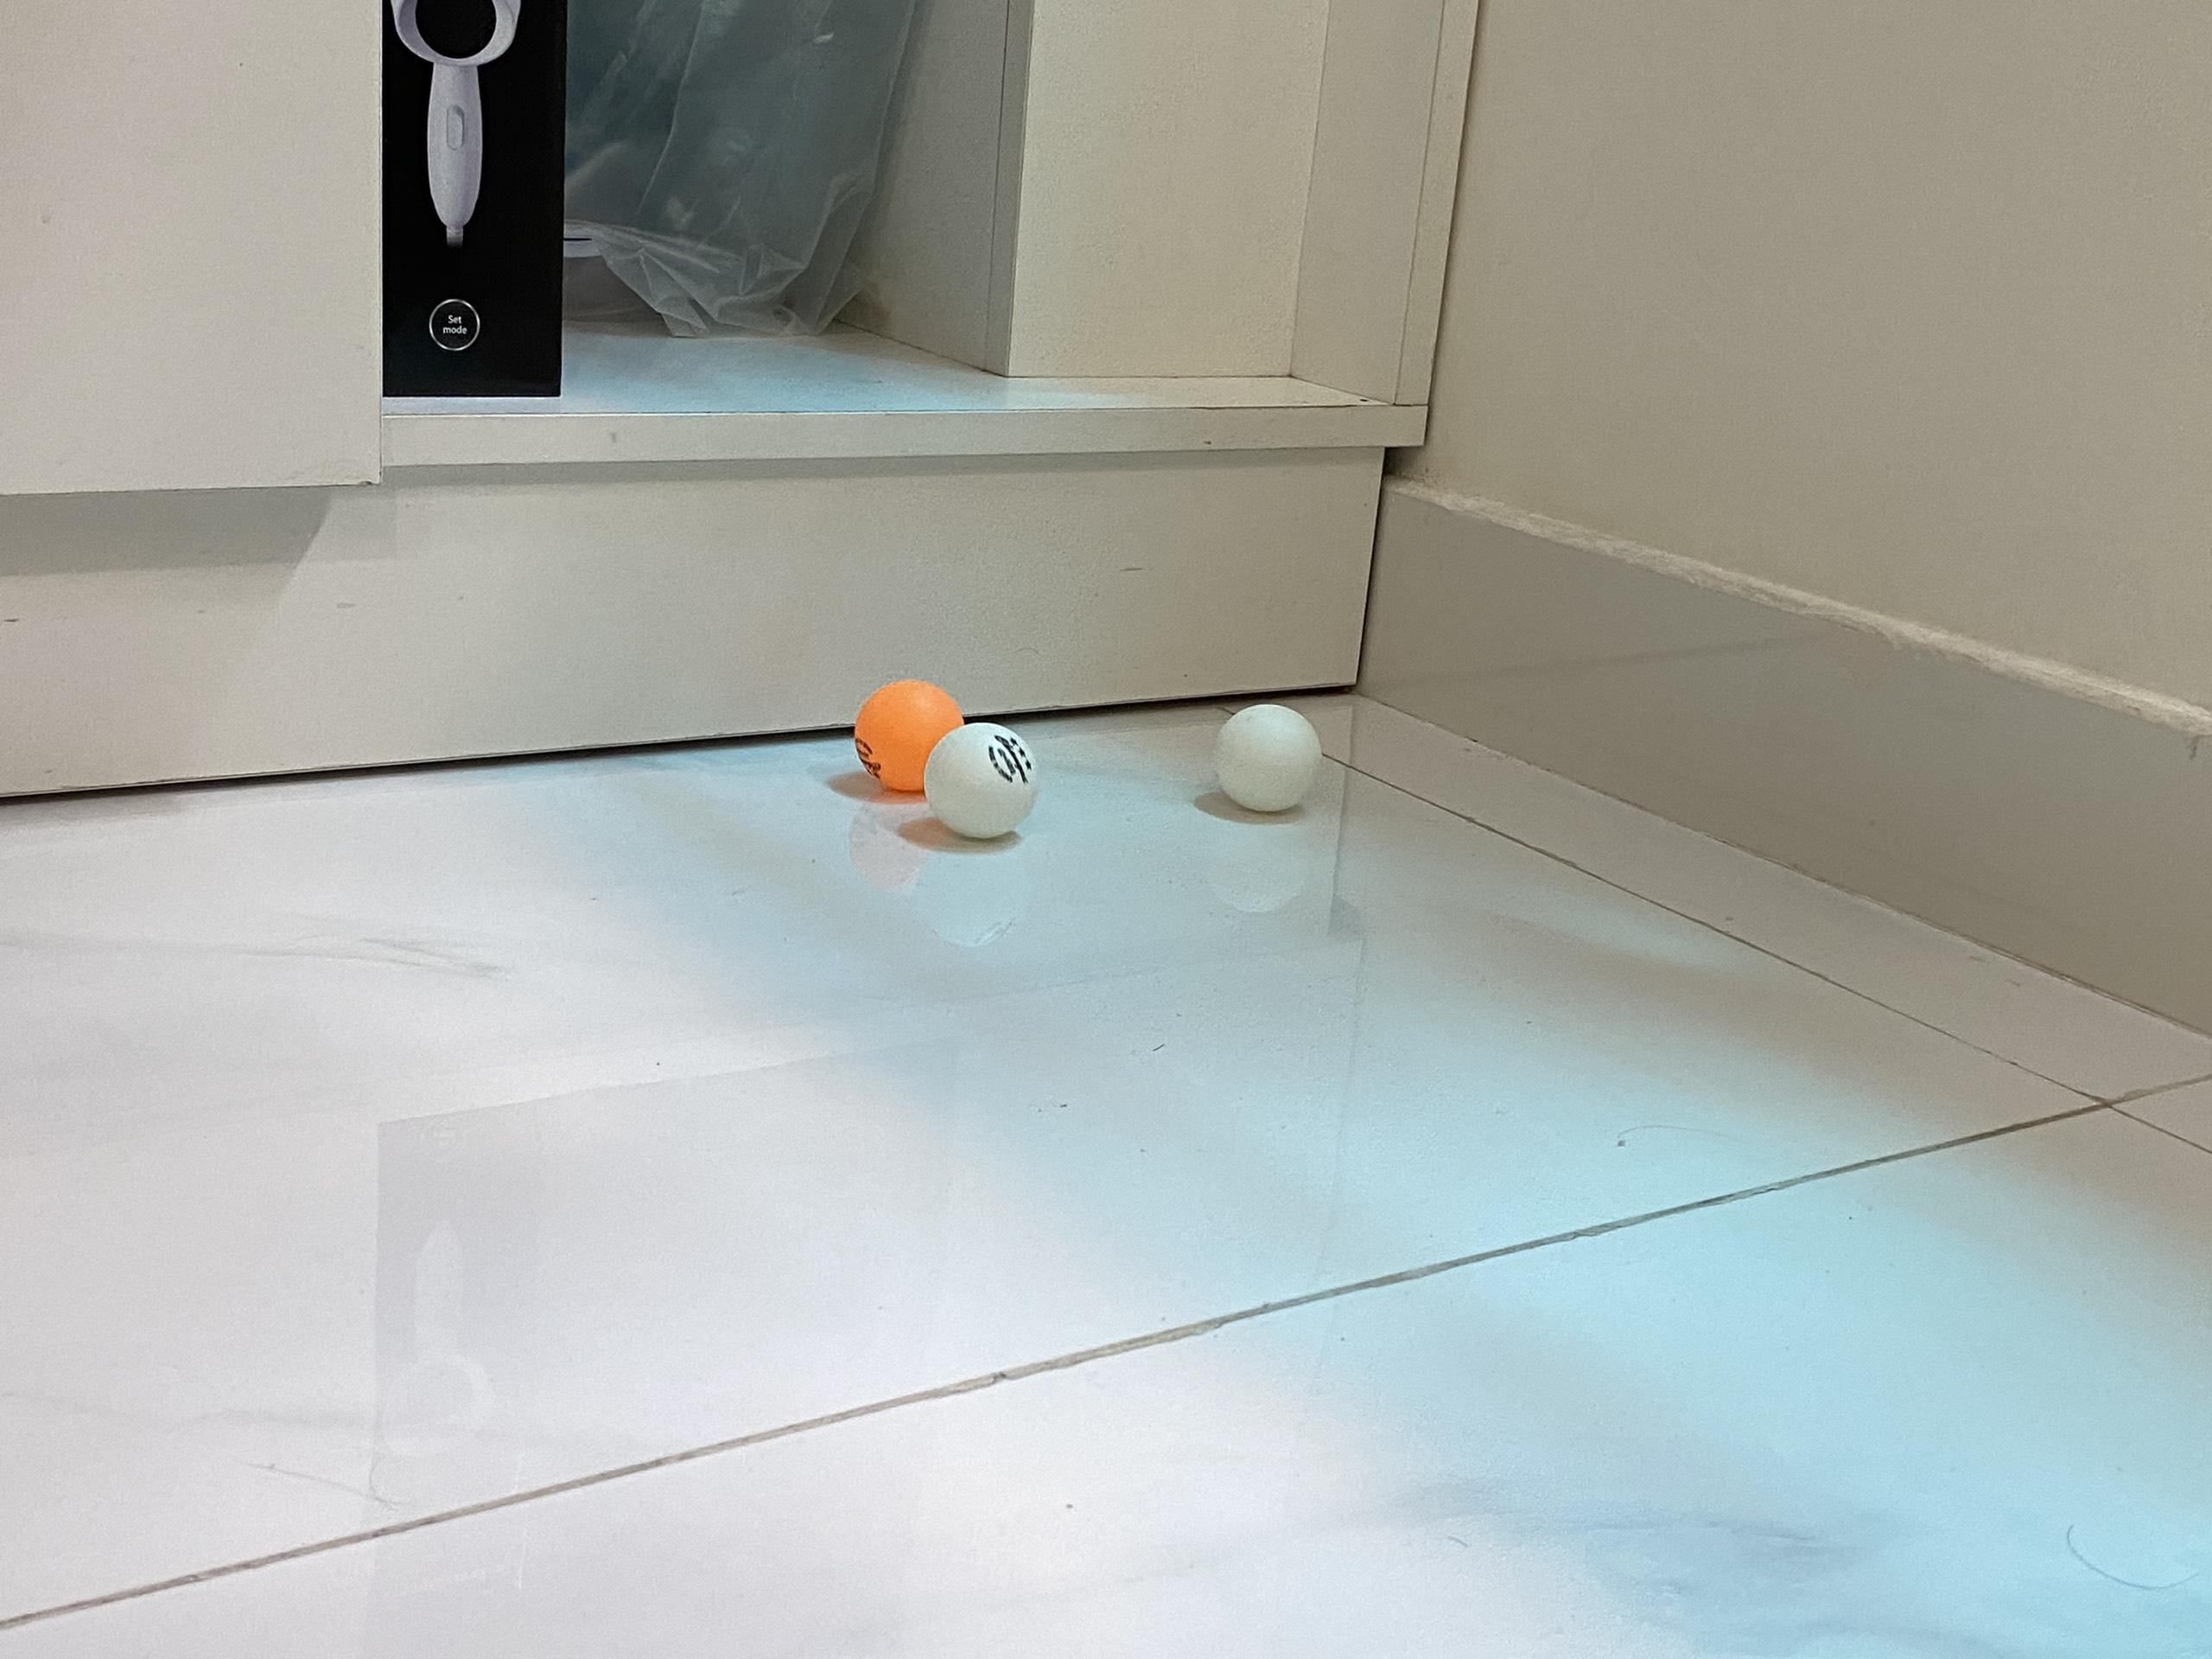oball: (855, 676, 965, 795)
